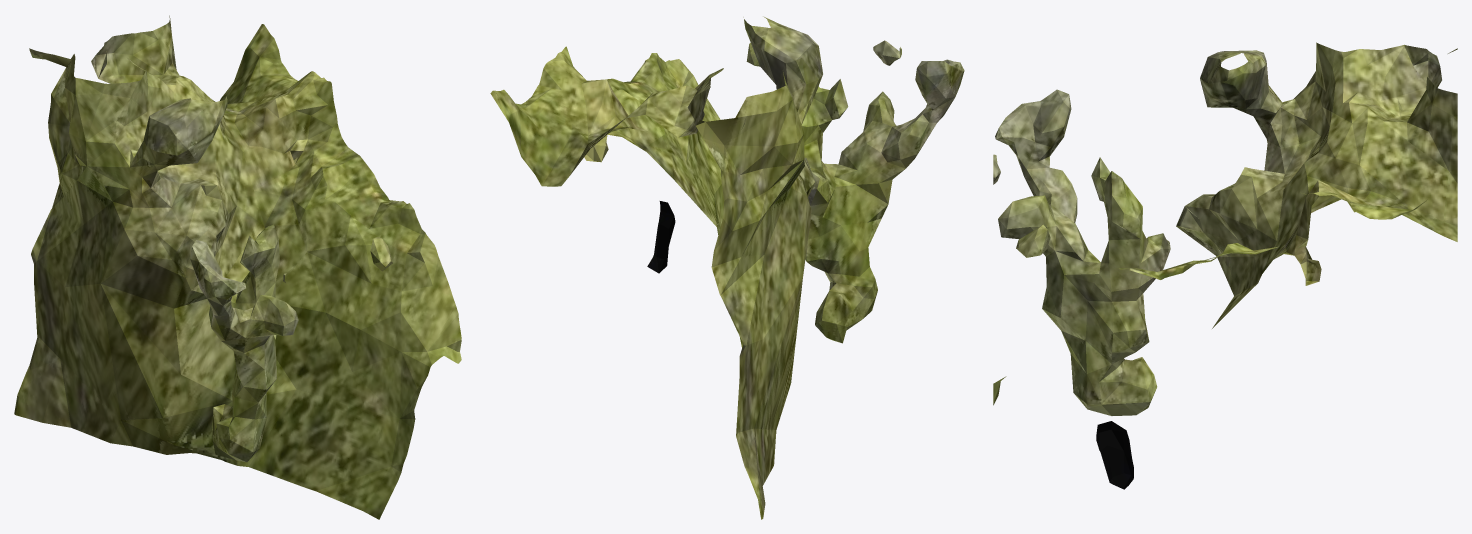
The picture shows the model from 3 angles, left to right: view 1: azimuth 30°, elevation 25°; view 2: azimuth 150°, elevation 25°; view 3: azimuth 270°, elevation 25°; orthographic projection. The views are drawn at different scales.
Size of the model in its own units: 2.11 by 2.95 by 2.95.
4 materials, 4 textured.
